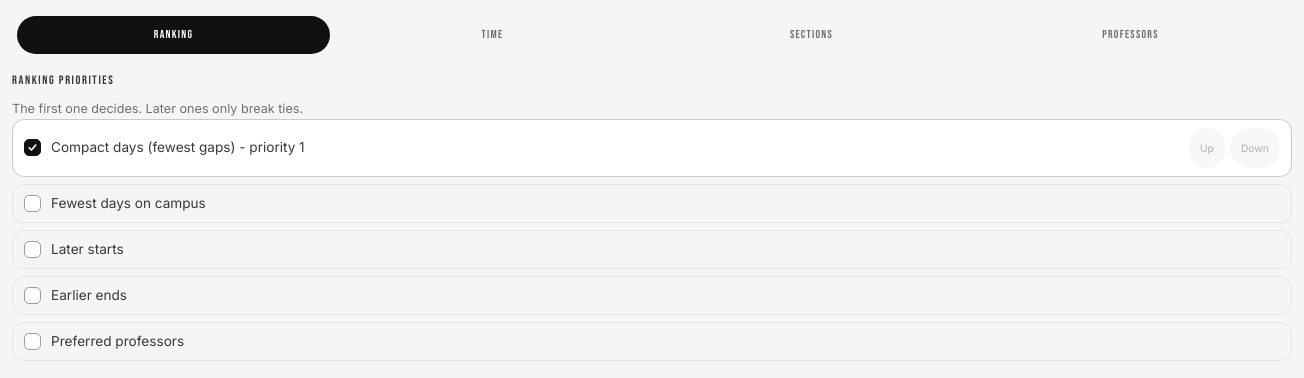
PreferencesSection professor ratings › reads an existing rating back into the picker
Click the tab "Professors". click: (1130,35)
box: [974,16,1287,54]
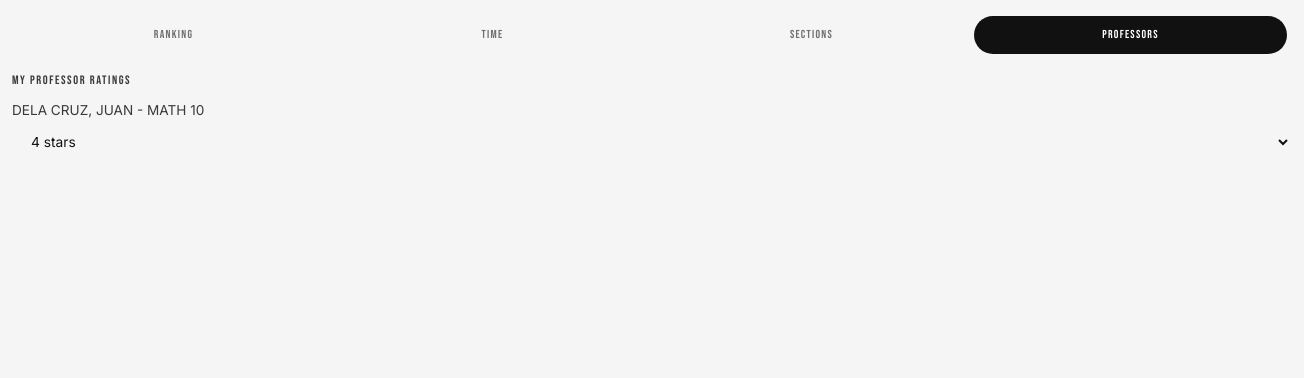
Check: the dropdown labelled "DELA CRUZ, JUAN - MATH 10" shows "4 stars", box [12,121,1292,163]
